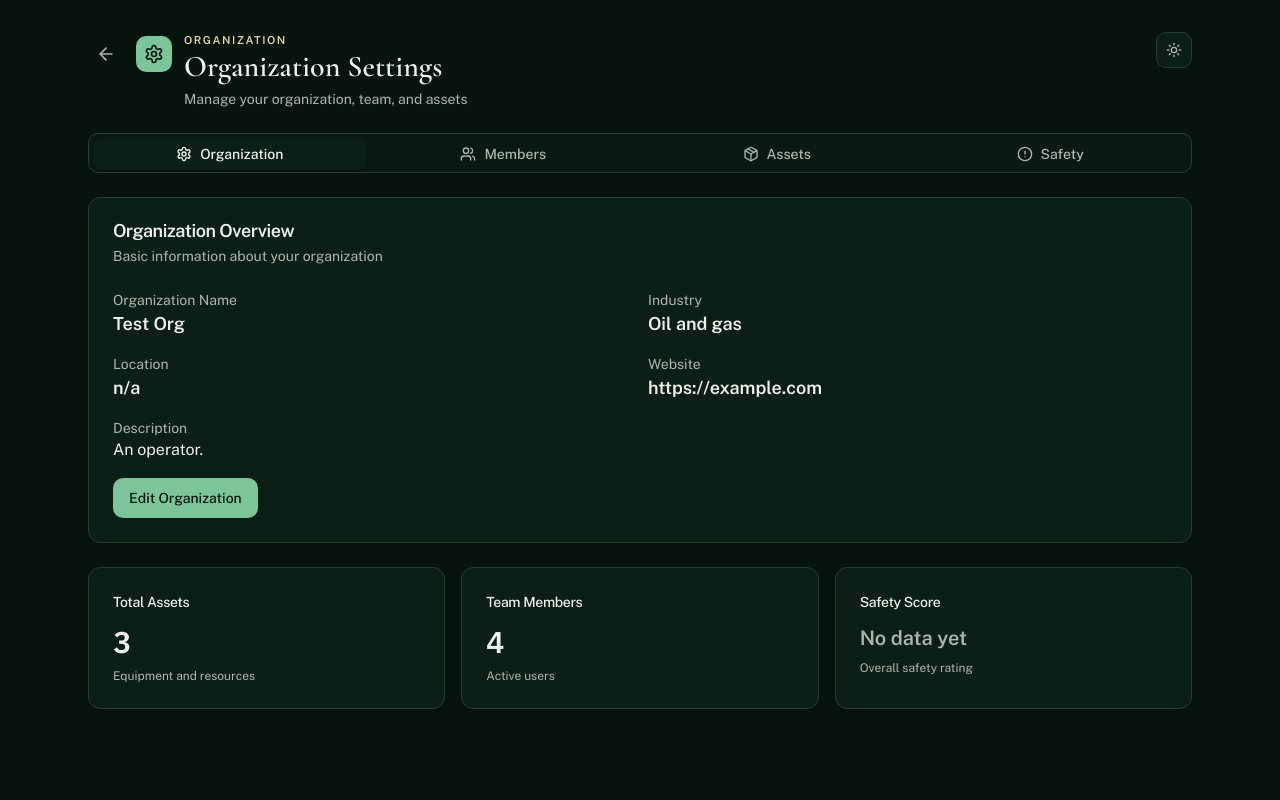
/organization on the design system (batch 1C, AccountScope) › Safety tab: flagged assets and counts on status roles, in dark
This screenshot has width=1280, height=800.
Check: the heading "Organization Overview" is shown, box [113, 220, 294, 240]
Press the mouse on the tab "Safety" at (1050, 154), box [914, 138, 1187, 170]
Press the mouse on the tab "Safety" at (1050, 154), box [914, 138, 1187, 170]
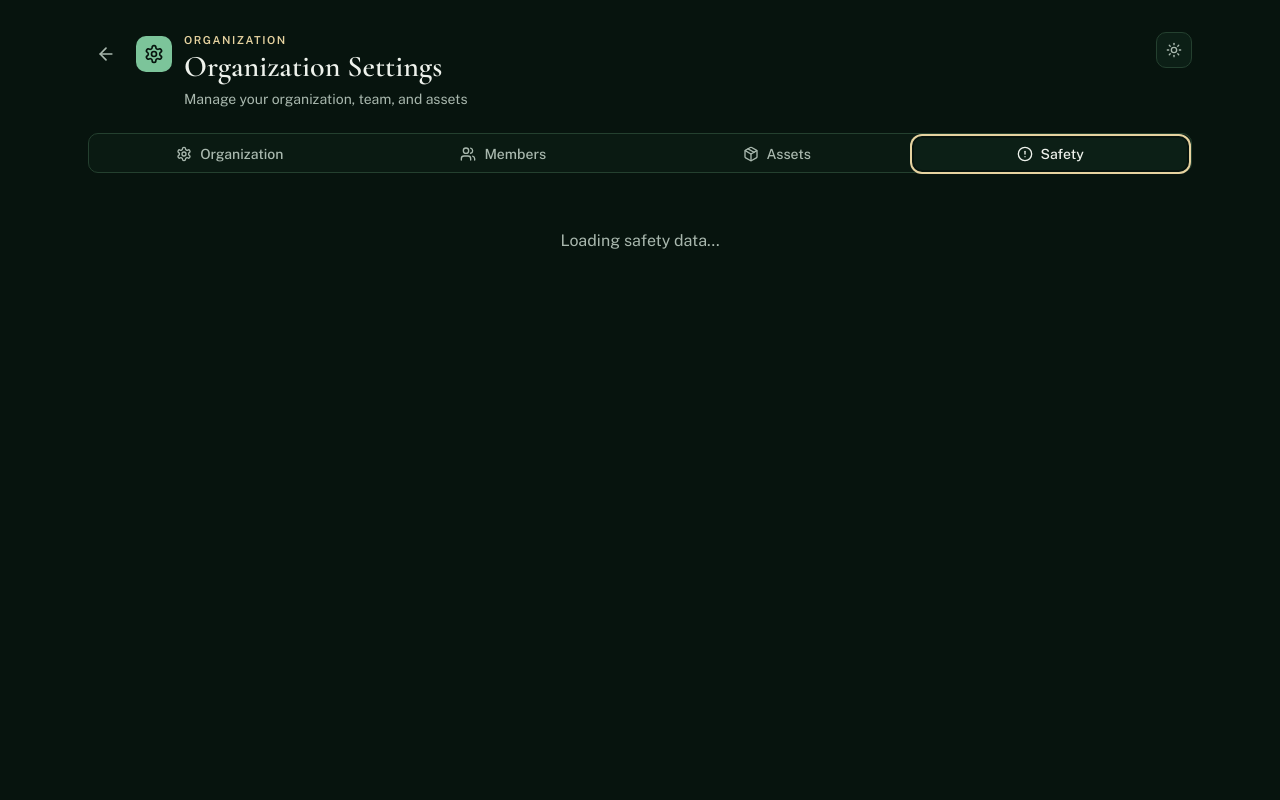
Click the tab "Safety".
click(1050, 154)  # box [914, 138, 1187, 170]
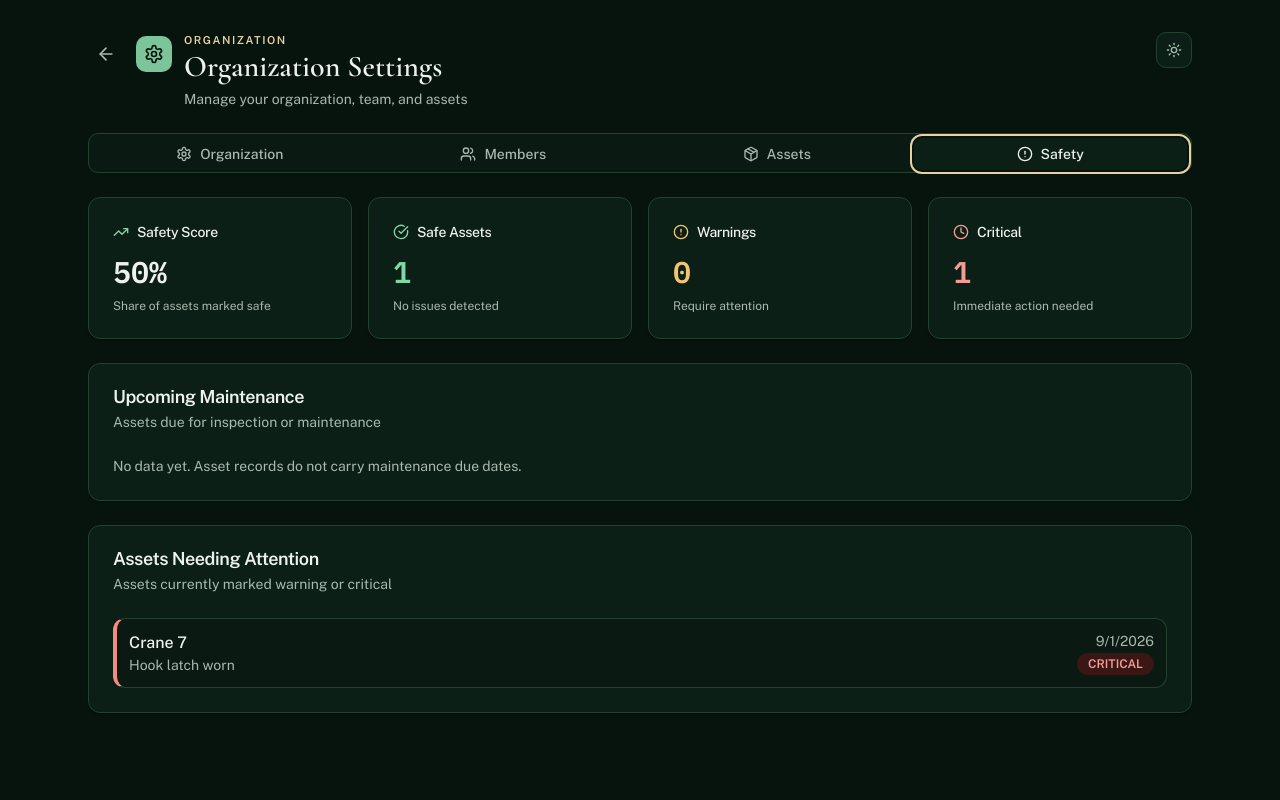
Check: the heading "Assets Needing Attention" is shown, box [113, 548, 319, 568]
Check: the text "Hook latch worn" is shown, box [129, 654, 235, 674]
